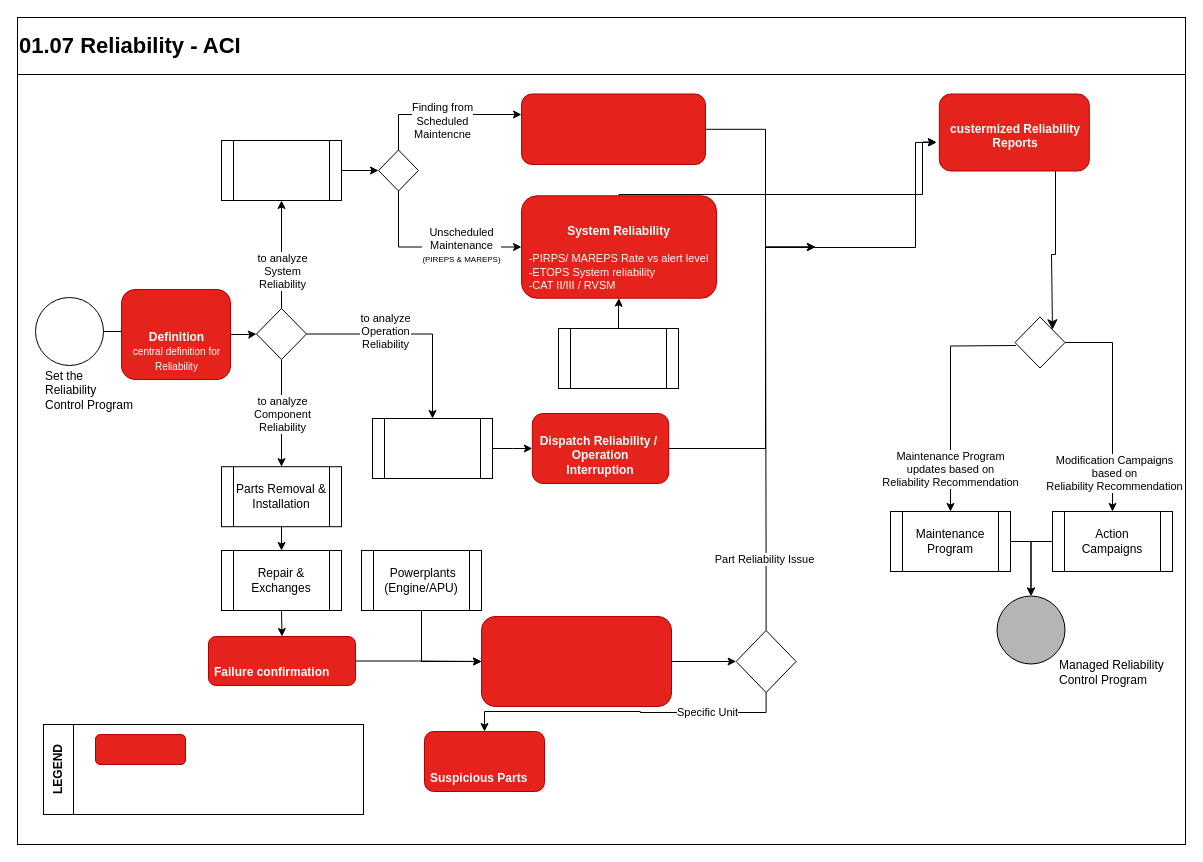
Image size: 1203x862. Some labels were removed from this diagram. The box of each missing label's shape, as (x1, y1, x2, y2) in pixels:
Delays & Event Tracking: (372, 418, 492, 478)
Fleet Engineering: (94, 734, 186, 764)
Maintenance Finding reporting: (520, 93, 706, 164)
MEL Administration: (558, 328, 678, 388)
Part / Engine Reliability -ETOPS System reliability -CAT II/III / RVSM: (480, 616, 672, 706)
Performing Maintenance: (220, 140, 342, 200)
